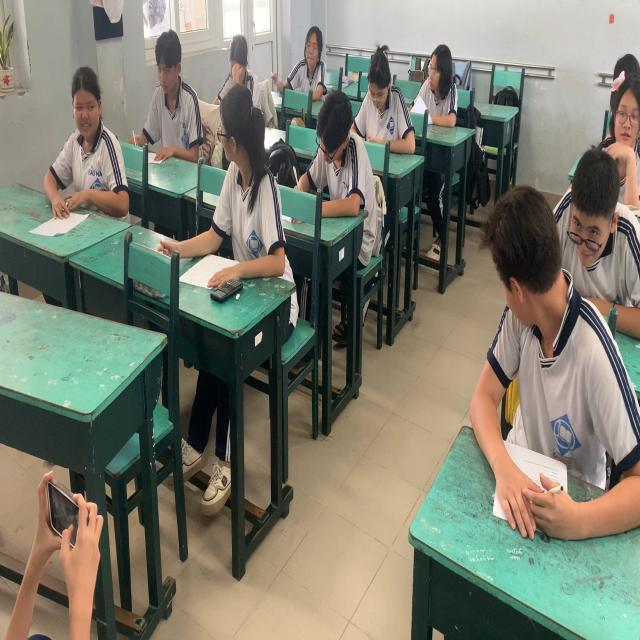cheating: (446, 187, 640, 554), (210, 101, 291, 282), (556, 150, 627, 278)
not_cheating: (52, 59, 130, 222), (291, 81, 371, 201), (132, 29, 206, 156), (360, 25, 418, 149), (274, 18, 332, 101), (596, 74, 640, 160), (217, 32, 262, 94), (422, 40, 454, 119)
